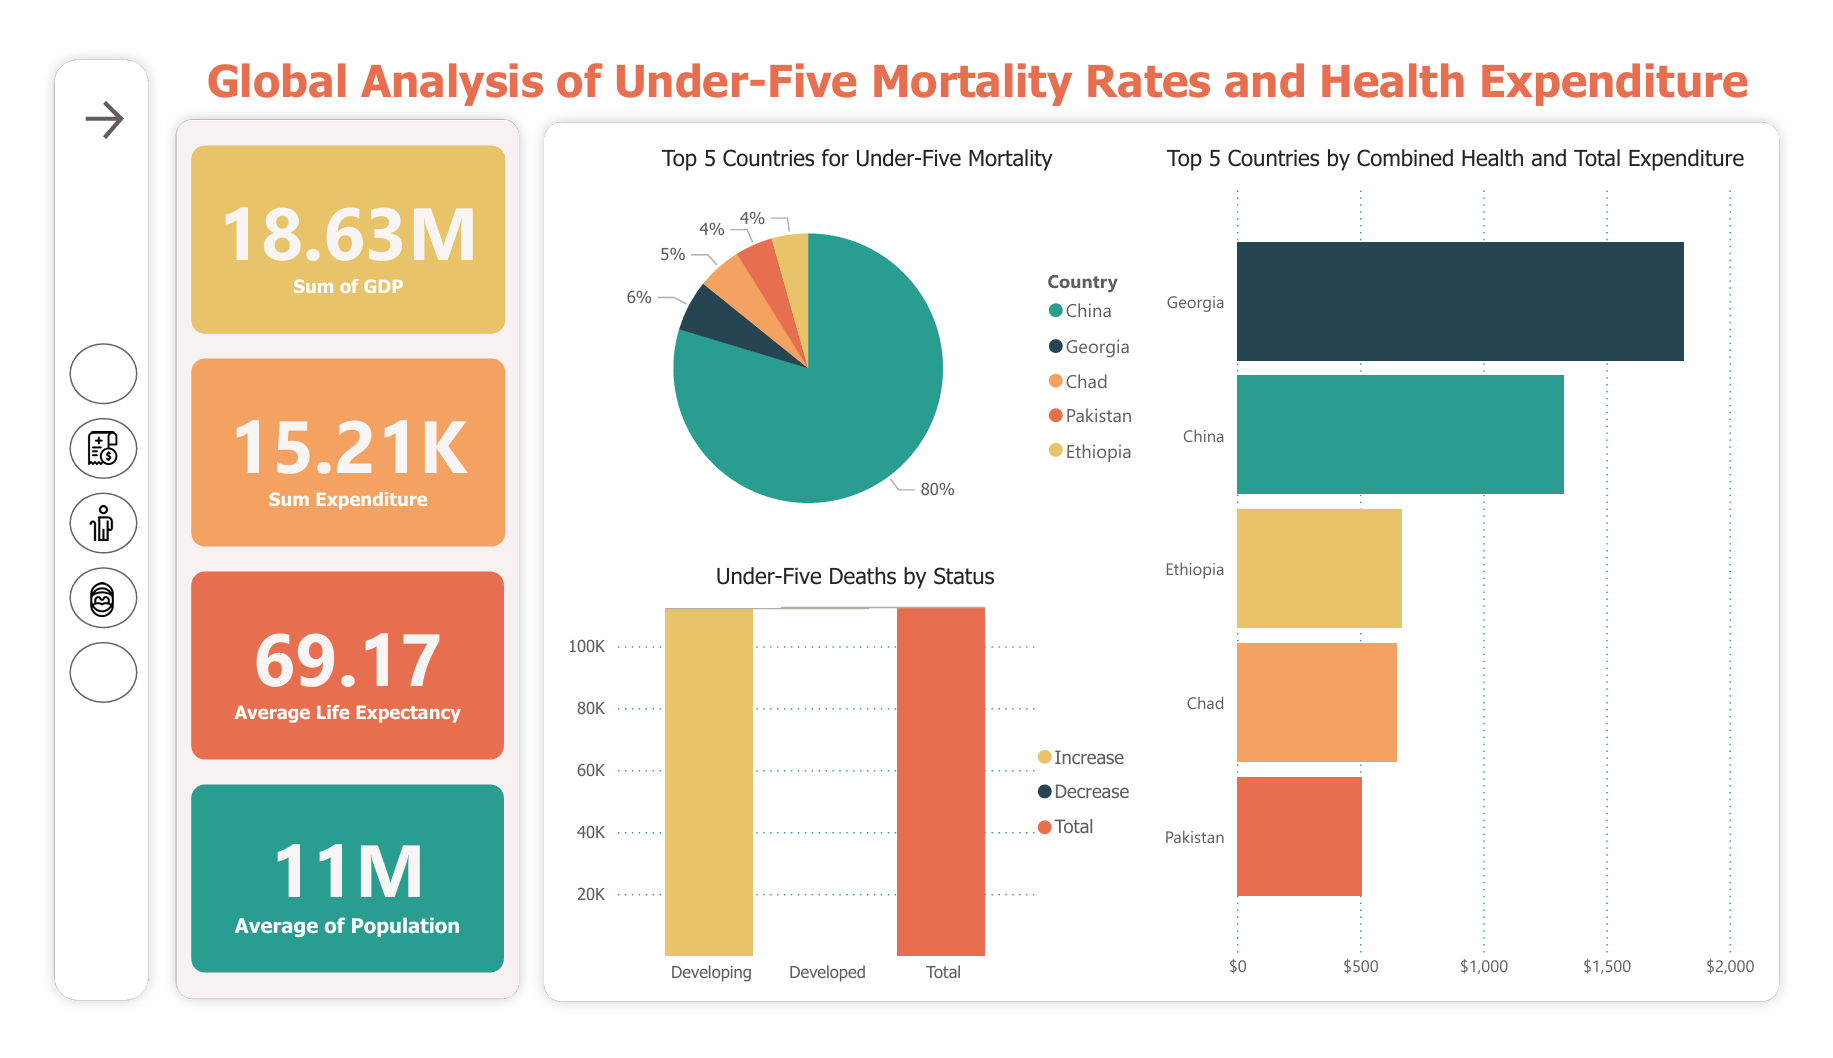

The page's visual inventory and layout, read from the dashboard file:
{"tool":"powerbi","page":{"name":"Mortality Rates and Health Expenditure","canvas":[1280,720],"ordinal":1},"visuals":[{"type":"textbox","box":[94.9,9.8,1178.4,51.4],"z":0},{"type":"shape","box":[94.2,53.2,267.8,656.2],"z":1000},{"type":"shape","box":[360,55,913.3,656.2],"z":1000,"group":"g1"},{"type":"card","fields":{"Values":["Avg(Table 1.Population)"]},"box":[115.4,544.4,225.2,135.7],"z":2000},{"type":"pieChart","title":"Top 5 Countries for Under-Five Mortality","fields":{"Category":["Table 1.Country"],"Y":["Sum(Life Expectancy.Under-Five Mortality Rate)"]},"box":[383.3,81.3,427,304.4],"z":3000,"group":"g1"},{"type":"card","fields":{"Values":["Sum(Table 1.GDP)"]},"box":[114.6,82.5,227,135.7],"z":3000},{"type":"pageNavigator","box":[26.6,225.2,48.8,260.7],"z":3000,"group":"g2"},{"type":"card","fields":{"Values":["Life Expectancy.Sum Expenditure"]},"box":[114.6,236.5,227,135.7],"z":4000},{"type":"image","box":[31.9,325.4,36.4,58.5],"z":4000,"group":"g3"},{"type":"waterfallChart","fields":{"Category":["Table 1.Status"],"Y":["Sum(Table 1.under-five deaths)"]},"box":[382.4,382.8,426,313.2],"z":4000,"group":"g1"},{"type":"group","id":"g1","title":"Group 2","box":[360,55,913.3,656.2],"z":5000},{"type":"barChart","title":"Top 5 Countries by Combined Health and Total Expenditure","fields":{"Category":["Table 1.Country"],"Y":["Sum(Life Expectancy.Combined Expenditure)"]},"box":[807.8,80.6,442.2,613.3],"z":5000,"group":"g1"},{"type":"image","box":[32.8,391,35.5,37.2],"z":5000,"group":"g3"},{"type":"card","fields":{"Values":["Life Expectancy.Average Life Expectancy"]},"box":[115,390.4,226.1,135.7],"z":6000},{"type":"shape","box":[6,9.7,87.5,700.3],"z":7000},{"type":"image","box":[33.8,275.7,33.7,49.7],"z":7000,"group":"g3"},{"type":"actionButton","box":[32.6,39.3,37.1,47.9],"z":8000},{"type":"group","id":"g2","title":"Group 4","box":[26.6,225.2,48.8,260.7],"z":9000},{"type":"group","id":"g3","title":"Group 1","box":[31.9,275.7,36.4,152.5],"z":9001,"group":"g2"}]}

Visuals, with their boxes in screenshot pixels (x1, y1, x2, y2), scaled from the page's 1280x720 canvas onto the 1833x1058 screenshot:
textbox: pyautogui.locateOnScreen(136, 14, 1823, 90)
shape: pyautogui.locateOnScreen(135, 78, 518, 1042)
shape: pyautogui.locateOnScreen(516, 81, 1823, 1045)
card - Avg(Table 1.Population): pyautogui.locateOnScreen(165, 800, 488, 999)
"Top 5 Countries for Under-Five Mortality" pieChart: pyautogui.locateOnScreen(549, 119, 1160, 567)
card - Sum(Table 1.GDP): pyautogui.locateOnScreen(164, 121, 489, 321)
pageNavigator: pyautogui.locateOnScreen(38, 331, 108, 714)
card - Life Expectancy.Sum Expenditure: pyautogui.locateOnScreen(164, 348, 489, 547)
image: pyautogui.locateOnScreen(46, 478, 98, 564)
waterfallChart - Table 1.Status x Sum(Table 1.under-five deaths): pyautogui.locateOnScreen(548, 563, 1158, 1023)
"Group 2" group: pyautogui.locateOnScreen(516, 81, 1823, 1045)
"Top 5 Countries by Combined Health and Total Expenditure" barChart: pyautogui.locateOnScreen(1157, 118, 1790, 1020)
image: pyautogui.locateOnScreen(47, 575, 98, 629)
card - Life Expectancy.Average Life Expectancy: pyautogui.locateOnScreen(165, 574, 488, 773)
shape: pyautogui.locateOnScreen(9, 14, 134, 1043)
image: pyautogui.locateOnScreen(48, 405, 97, 478)
actionButton: pyautogui.locateOnScreen(47, 58, 100, 128)
"Group 4" group: pyautogui.locateOnScreen(38, 331, 108, 714)
"Group 1" group: pyautogui.locateOnScreen(46, 405, 98, 629)
